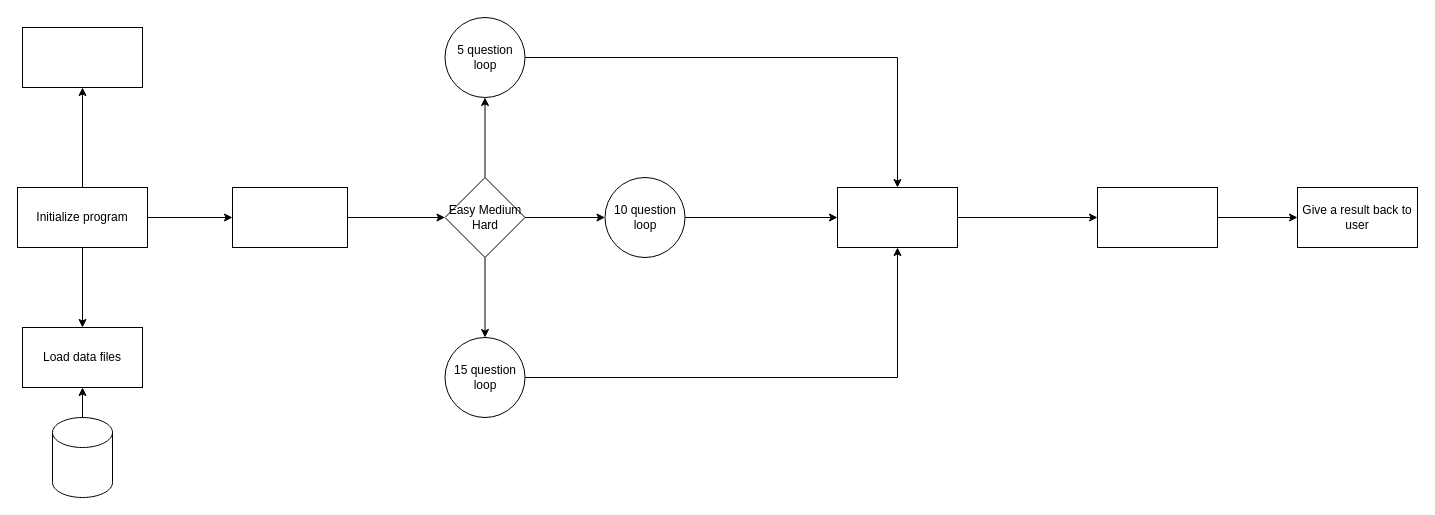
Some shapes in this 1435 by 515 pixel diagram are drawn without their labels. Each missing label, with the box of its shape:
Evaluate answer: (1096, 186, 1218, 248)
Generate questions: (22, 26, 142, 88)
Present Method/Menu, give user options (maybe easy medium hard?): (232, 186, 348, 248)
Prompt the user for question and store answer: (836, 186, 958, 248)
